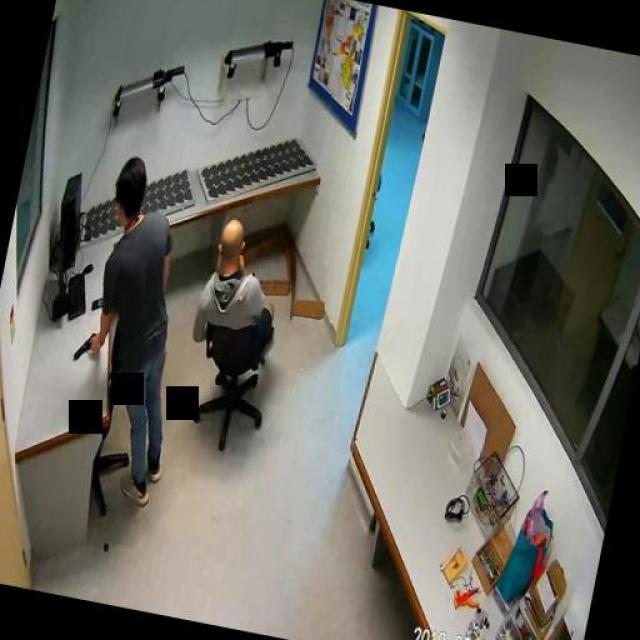gun: (66, 327, 108, 368)
